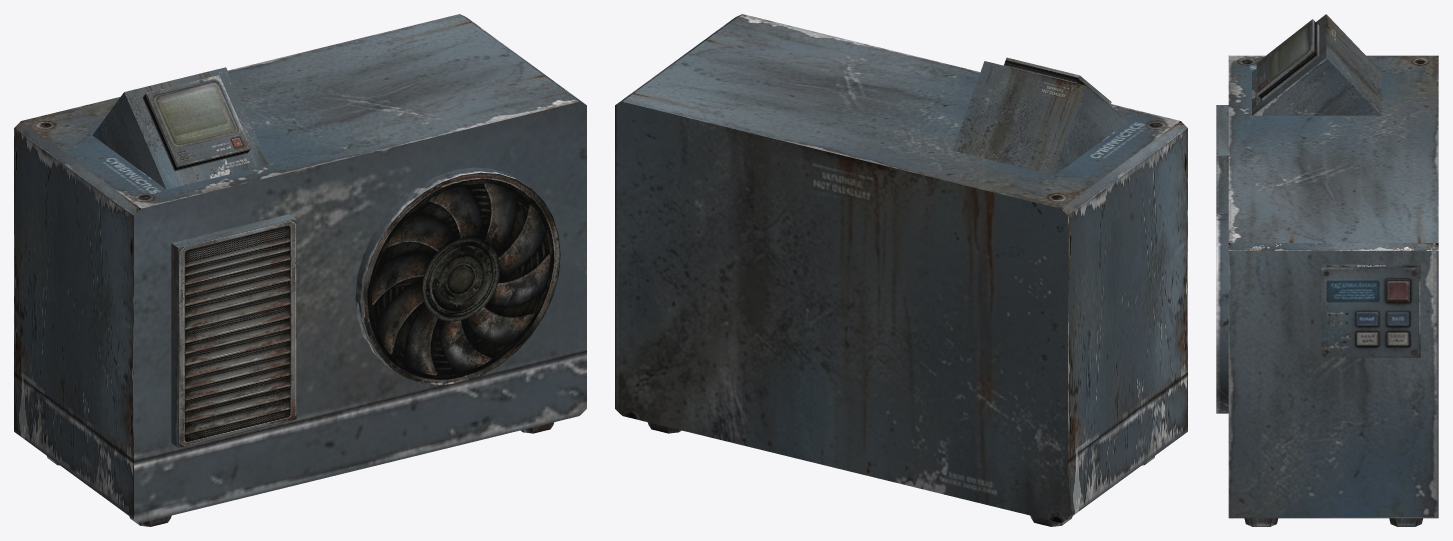
The picture shows the model from 3 angles, left to right: view 1: azimuth 30°, elevation 25°; view 2: azimuth 150°, elevation 25°; view 3: azimuth 270°, elevation 25°; orthographic projection. The views are drawn at different scales.
Visible parts, largest first — view 1: AC; view 2: AC; view 3: AC.
Boxes of the visible parts, bbox=[...] form: AC: bbox=[14, 14, 586, 526]; AC: bbox=[615, 14, 1187, 526]; AC: bbox=[1216, 14, 1438, 526].
Size of the model in its own units: 2.08 by 1.72 by 0.9934.
Materials: 1 (1 with a texture image).
